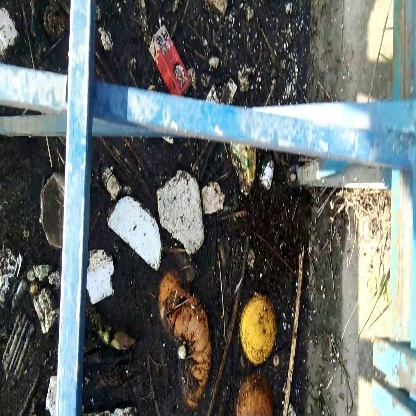milk-box: (145, 16, 203, 100)
